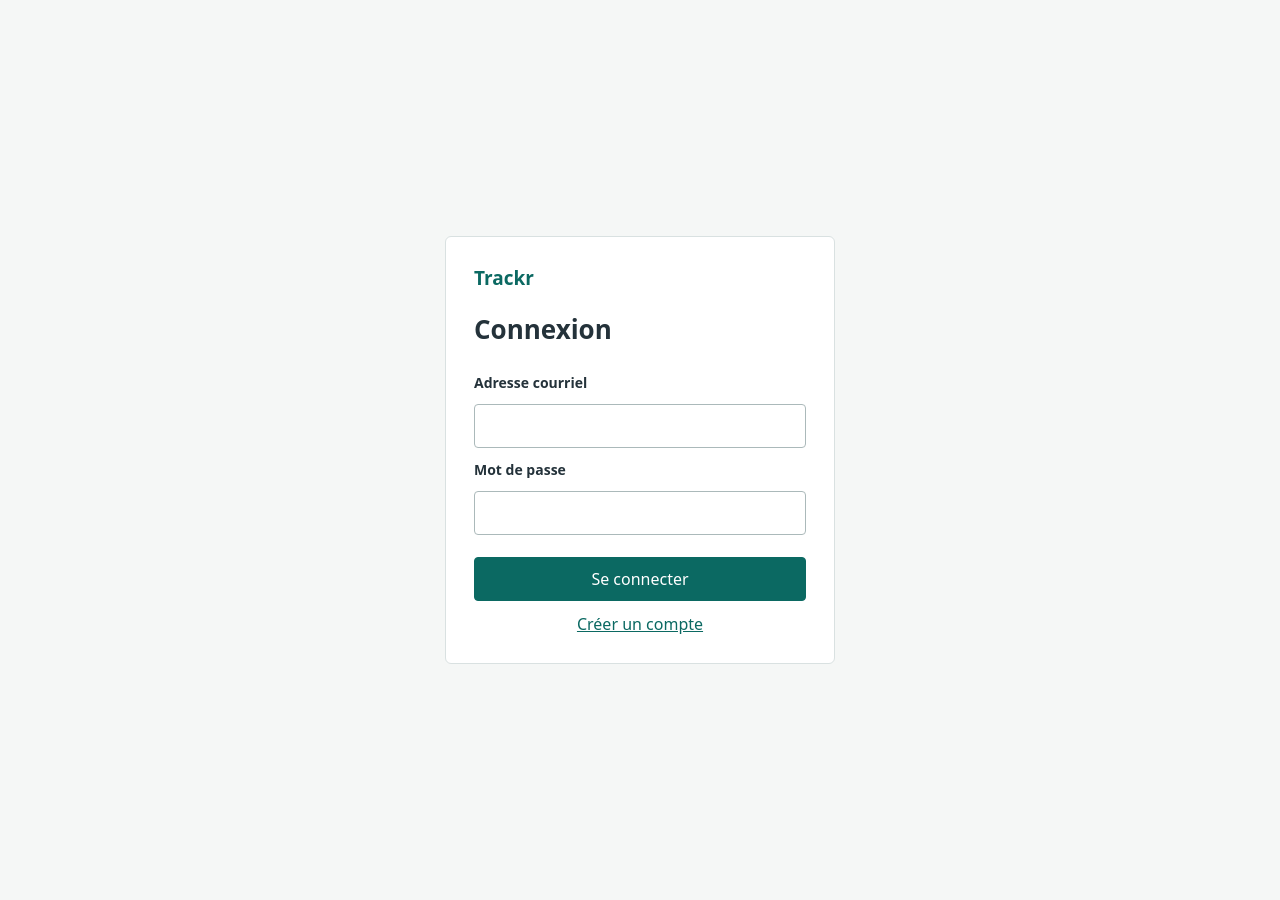
it: actualise les projets puis revient à la connexion après la déconnexion
Type "alice@example.com" into the field labelled "Adresse courriel". click: (640,426)
box: x1=474 y1=404 x2=806 y2=448
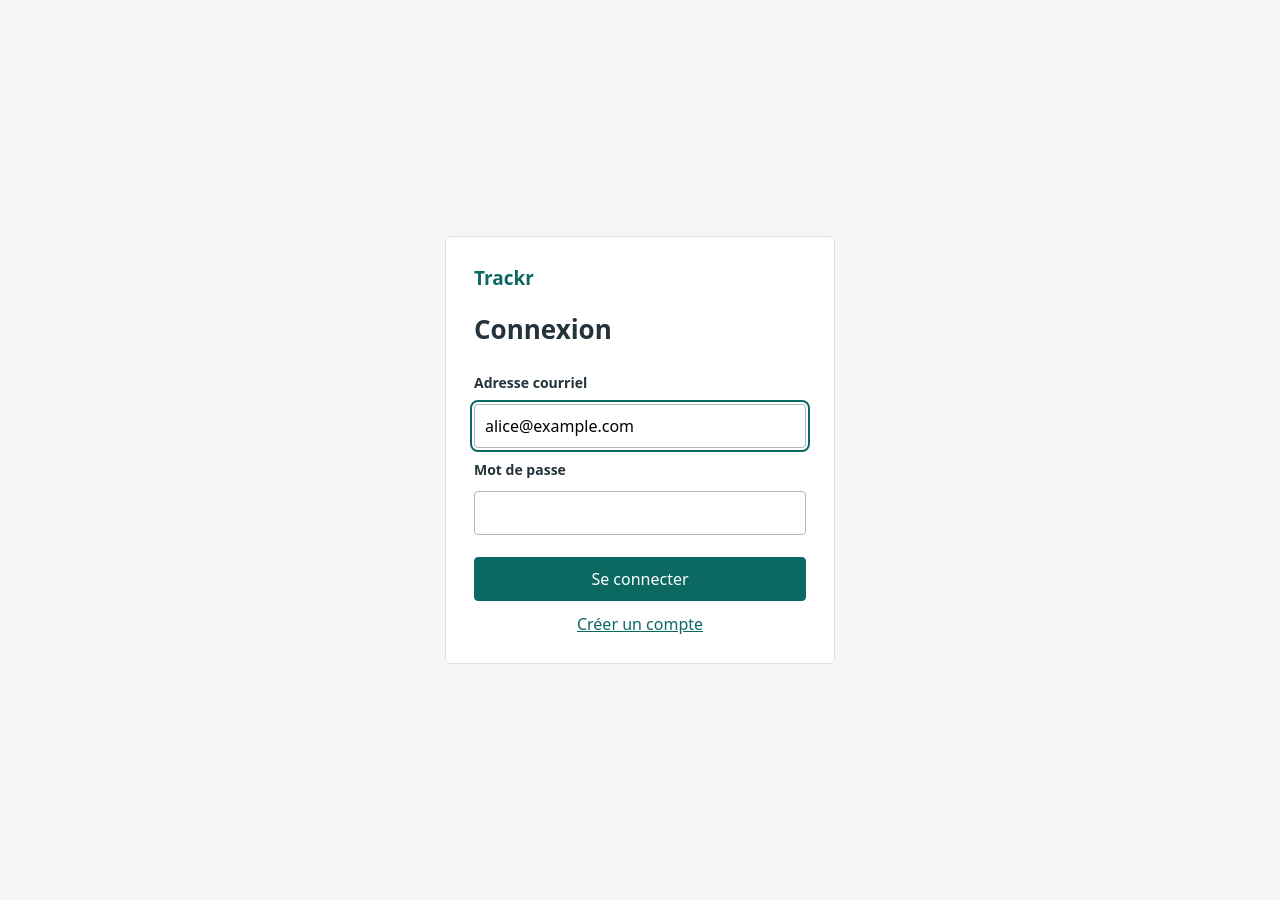
Type "Password123!" into the password field labelled "Mot de passe". click: (640,513)
box: x1=474 y1=491 x2=806 y2=535
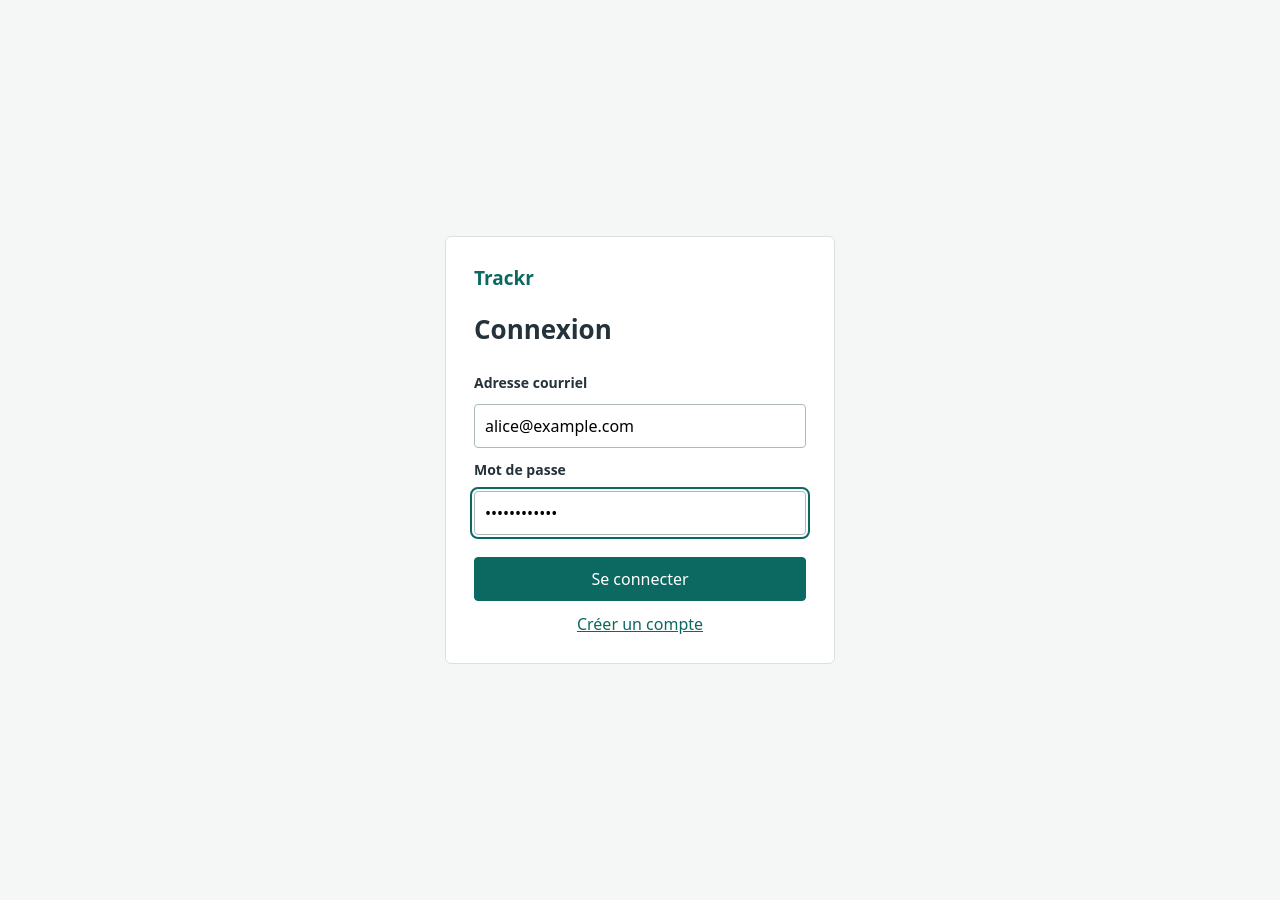
Click the button "Se connecter". click: (640,579)
box: x1=474 y1=557 x2=806 y2=601
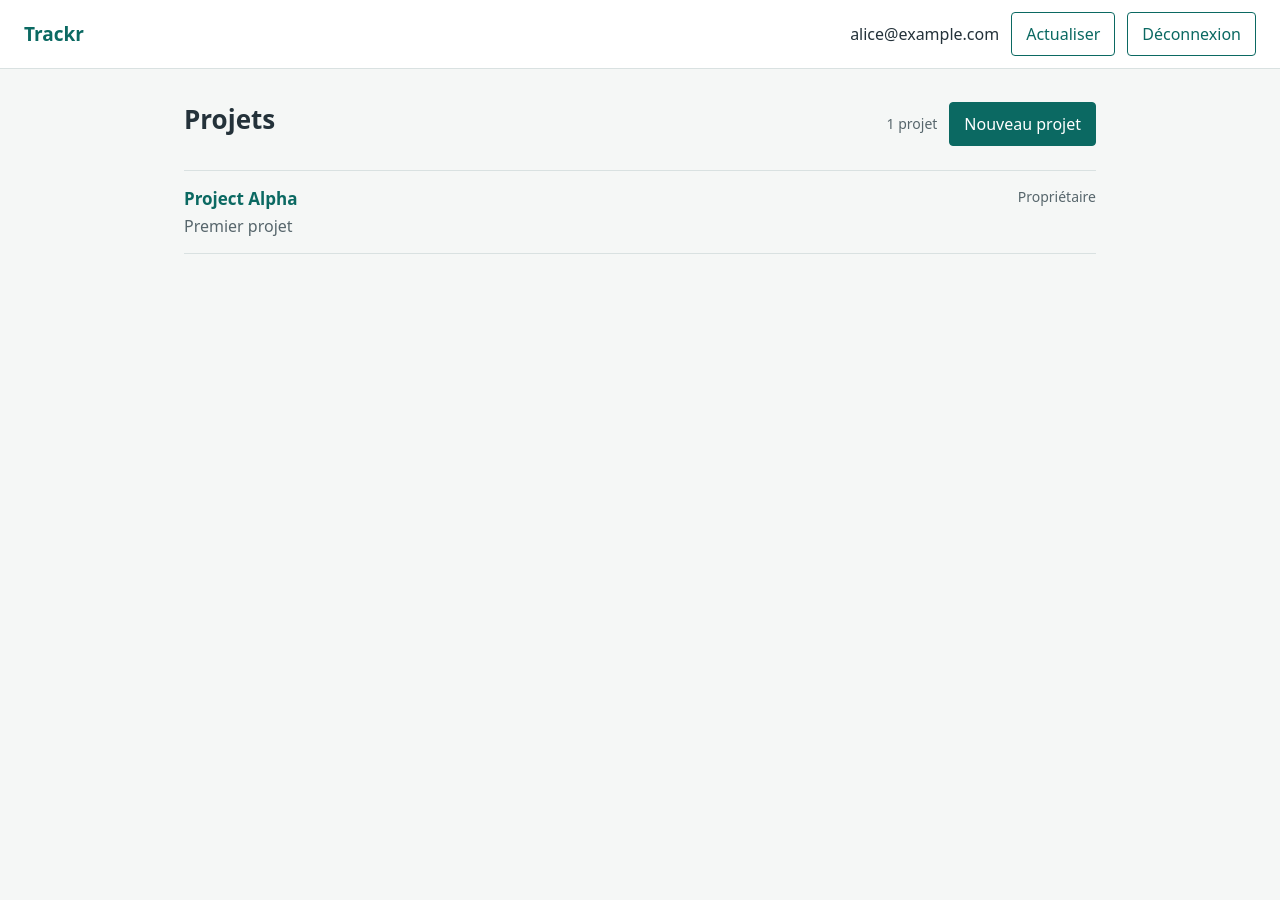
Now the button "Project Alpha" is shown, box x1=184 y1=186 x2=298 y2=210
Click the button "Actualiser". click: (1063,34)
box: x1=1011 y1=12 x2=1115 y2=56
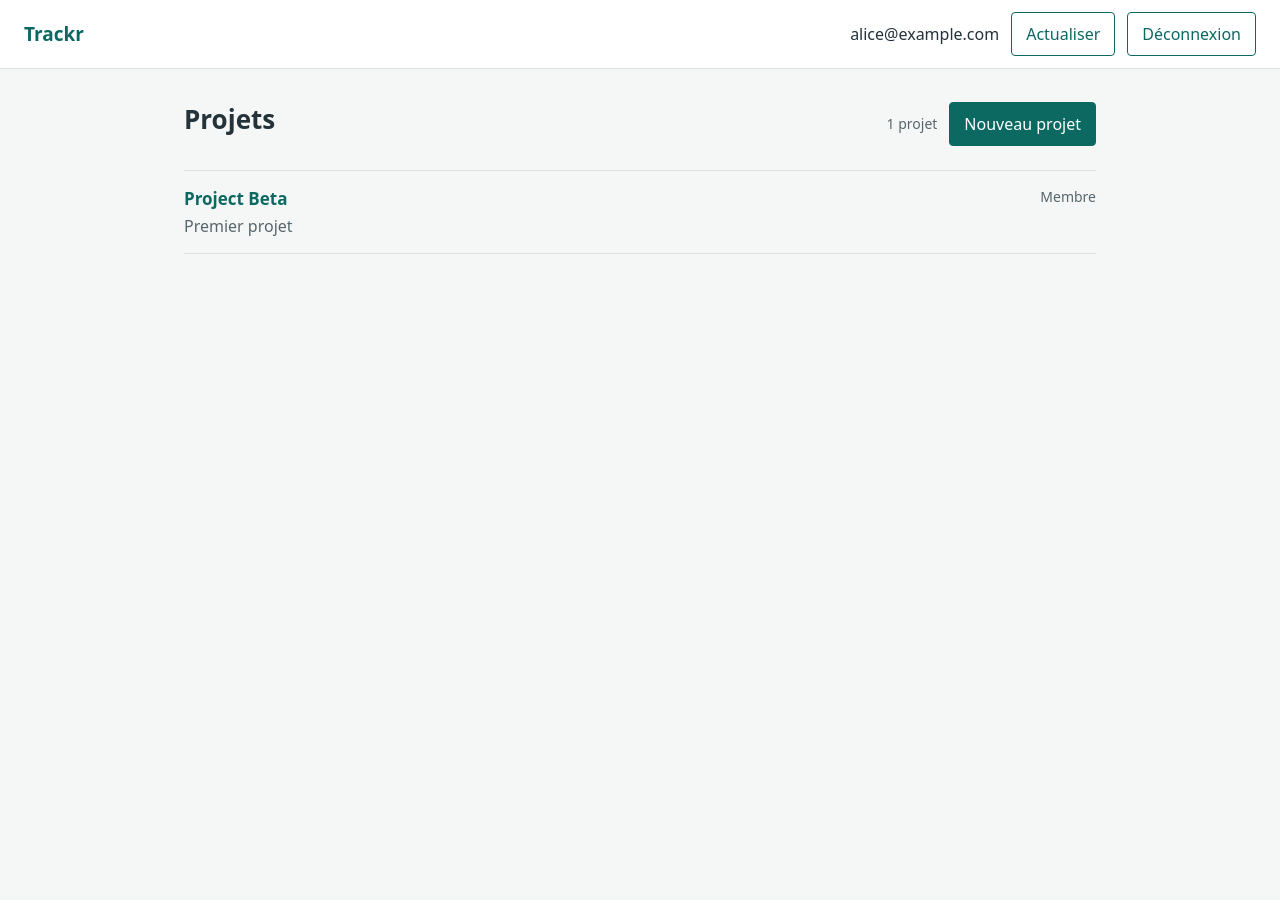
Now the button "Project Beta" is shown, box x1=184 y1=186 x2=288 y2=210
Now the button "Project Alpha" is gone
Now the text "Membre" is shown, box x1=1040 y1=186 x2=1096 y2=206
Click the button "Déconnexion". click: (1192,34)
box: x1=1127 y1=12 x2=1256 y2=56
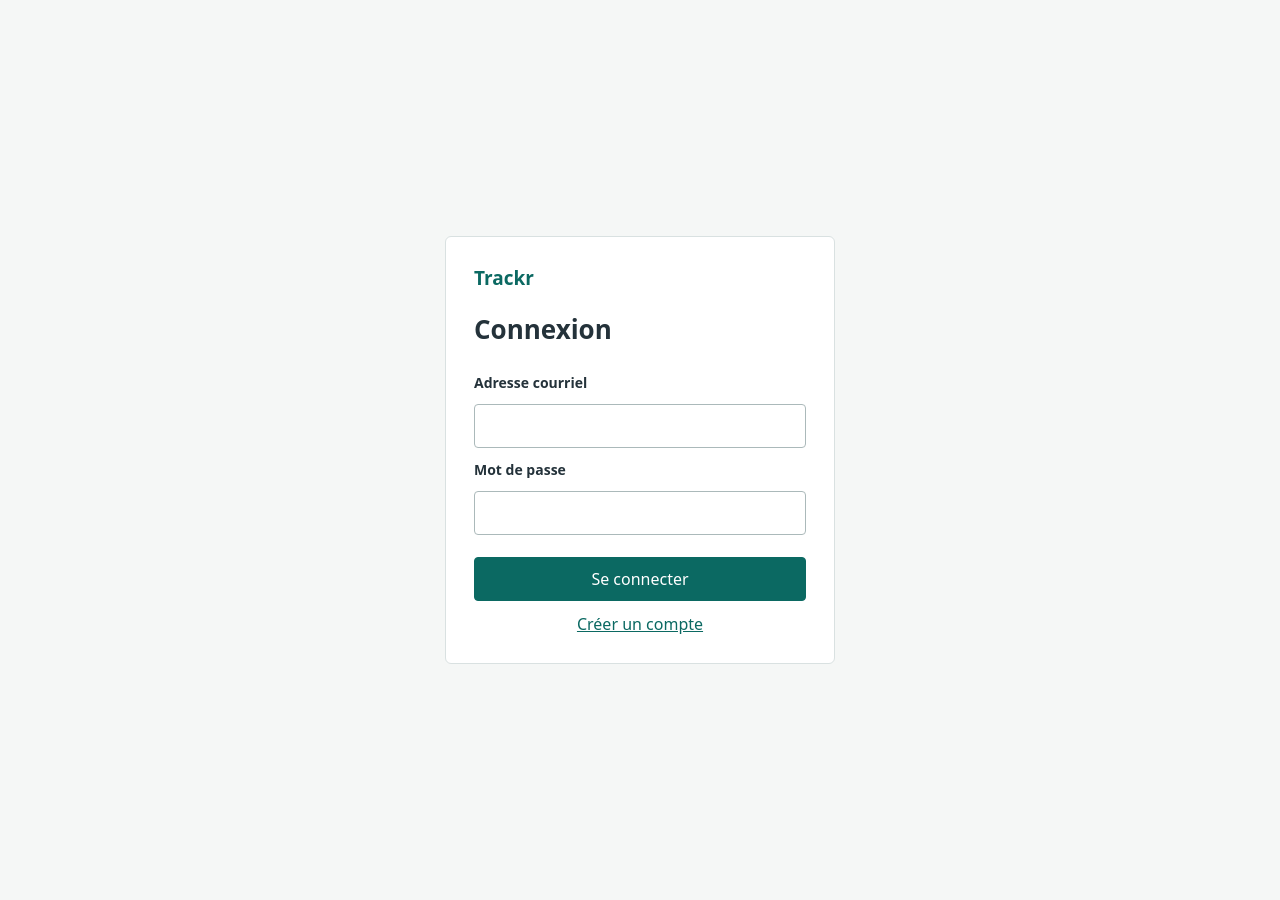
Expected: the field labelled "Adresse courriel" is empty, x1=474 y1=404 x2=806 y2=448
Now the heading "Connexion" is shown, box x1=474 y1=311 x2=612 y2=347
Now the button "Project Beta" is gone
